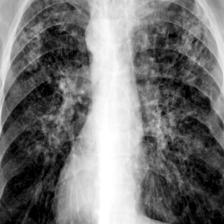tuberculosis: (1, 1, 224, 224)
